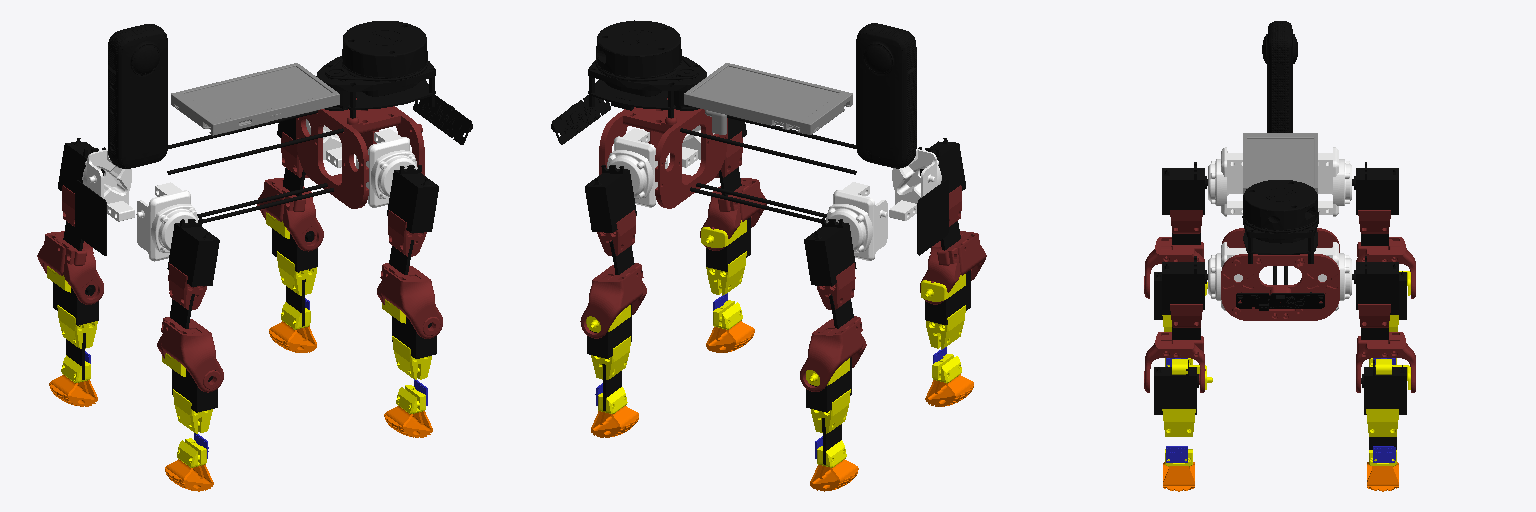
--- What the picture shows (computed from the rendered views, not written in the file) ---
3 views of the same robot in one strip: view 1: azimuth 30°, elevation 25°; view 2: azimuth 150°, elevation 25°; view 3: azimuth 270°, elevation 25° (orthographic).
Model spot with 49 links and 48 joints (12 revolute, 36 fixed), rooted at base_link, posed all joints at 0.
Links seen in each view (by area): view 1: insta_360, rpi_lidar, m5paper, front_bracket, front_right_upper_leg, back_right_upper_leg, back_left_upper_leg, back_right_hip, front_left_upper_leg, back_right_upper_servo, front_right_upper_servo, front_right_hip (+18 smaller); view 2: insta_360, rpi_lidar, m5paper, front_bracket, front_left_upper_leg, back_left_upper_leg, back_left_hip, back_right_upper_leg, front_left_upper_servo, back_left_upper_servo, front_right_upper_leg, front_left_hip (+18 smaller); view 3: front_bracket, rpi_lidar, m5paper, insta_360, front_right_upper_leg, front_left_upper_leg, back_right_upper_leg, back_left_upper_leg, front_left_upper_servo, front_right_upper_servo, back_left_upper_servo, back_right_upper_servo (+11 smaller).
Link boxes in pixels (left/top/right/bottom): insta_360: left=108, top=24, right=167, bottom=168; rpi_lidar: left=316, top=21, right=435, bottom=118; m5paper: left=171, top=63, right=339, bottom=135; front_bracket: left=296, top=98, right=424, bottom=208; front_right_upper_leg: left=377, top=210, right=442, bottom=338; back_right_upper_leg: left=157, top=263, right=223, bottom=392; back_left_upper_leg: left=37, top=185, right=103, bottom=304; back_right_hip: left=136, top=182, right=197, bottom=261; front_left_upper_leg: left=257, top=132, right=323, bottom=251; back_right_upper_servo: left=167, top=218, right=219, bottom=286; front_right_upper_servo: left=387, top=165, right=438, bottom=232; front_right_hip: left=356, top=129, right=417, bottom=207; insta_360: left=856, top=23, right=916, bottom=168; rpi_lidar: left=588, top=20, right=706, bottom=117; m5paper: left=684, top=63, right=852, bottom=134; front_bracket: left=599, top=98, right=727, bottom=208; front_left_upper_leg: left=580, top=210, right=646, bottom=338; back_left_upper_leg: left=800, top=263, right=866, bottom=391; back_left_hip: left=826, top=182, right=887, bottom=260; back_right_upper_leg: left=920, top=185, right=986, bottom=304; front_left_upper_servo: left=585, top=165, right=636, bottom=232; back_left_upper_servo: left=804, top=218, right=856, bottom=286; front_right_upper_leg: left=700, top=131, right=766, bottom=250; front_left_hip: left=607, top=128, right=667, bottom=207; front_bracket: left=1221, top=228, right=1339, bottom=320; rpi_lidar: left=1242, top=180, right=1318, bottom=263; m5paper: left=1243, top=133, right=1317, bottom=194; insta_360: left=1262, top=21, right=1297, bottom=132; front_right_upper_leg: left=1144, top=304, right=1205, bottom=392; front_left_upper_leg: left=1356, top=304, right=1415, bottom=392; back_right_upper_leg: left=1144, top=210, right=1204, bottom=298; back_left_upper_leg: left=1356, top=210, right=1415, bottom=298; front_left_upper_servo: left=1352, top=256, right=1398, bottom=309; front_right_upper_servo: left=1162, top=256, right=1207, bottom=309; back_left_upper_servo: left=1352, top=162, right=1398, bottom=214; back_right_upper_servo: left=1162, top=162, right=1207, bottom=214.
Size in the robot's own frame: 0.342 by 0.2525 by 0.3754 metres.
41 mesh visuals loaded from 30 distinct referenced files (24 binary STL); not drawn: 7 (reference not matched to a file when rendering).

The robot description file, URDF, robot "spot":
<?xml version="1.0" encoding="utf-8"?>
<!-- =================================================================================== -->
<!-- |    This document was autogenerated by xacro from spot.urdf.xacro                | -->
<!-- |    EDITING THIS FILE BY HAND IS NOT RECOMMENDED                                 | -->
<!-- =================================================================================== -->
<robot name="spot">
  <material name="maroon">
    <color rgba="0.5 0.2 0.2 1"/>
  </material>
  <material name="lblue">
    <color rgba="0.01 0.01 0.08 0.7"/>
  </material>
  <material name="orange">
    <color rgba="1.0 0.5 0.0 1"/>
  </material>
  <material name="black">
    <color rgba="0.1 0.1 0.1 1"/>
  </material>
  <material name="gray">
    <color rgba="0.6 0.6 0.6 1"/>
  </material>
  <material name="white">
    <color rgba="1.0 1.0 1.0 1"/>
  </material>
  <material name="yellow">
    <color rgba="1.0 1.0 0.0 1"/>
  </material>
  <material name="cgray">
    <color rgba="0.6 0.6 0.6 0.5"/>
  </material>
  <material name="blue">
    <color rgba="0.2 0.2 0.8 1"/>
  </material>
  <material name="green">
    <color rgba="0.2 0.8 0.2 1"/>
  </material>
  <!-- Left Leg: prefix is front or rear -->
  <!--   <xacro:macro name="LeftLeg" params="prefix reflect">
    <link name="${prefix}_Left_Leg">
        <visual>
            <geometry>
                <box size="${leglen} 0.1 0.2"/>
            </geometry>
            <origin xyz="0 0 -${leglen/2}" rpy="0 ${pi/2} 0"/>
            <material name="white"/>
        </visual>
        <collision>
            <geometry>
                <box size="${leglen} 0.1 0.2"/>
            </geometry>
            <origin xyz="0 0 -${leglen/2}" rpy="0 ${pi/2} 0"/>
        </collision>
        <xacro:default_inertial mass="10"/>
    </link>

    <joint name="base_to_${prefix}_leg" type="fixed">
        <parent link="base_link"/>
        <child link="${prefix}_leg"/>
        <origin xyz="0 ${reflect*(width+.02)} 0.25" />
    </joint>
</xacro:macro> -->
  <!-- <xacro:include filename="$(find mini_ros)/urdf/accessories.urdf.xacro" /> -->
  <!-- Robot description -->
  <!-- STATIC Links -->
  <link name="base_link"/>
  <link name="base_inertia">
    <visual>
      <origin rpy="0 0 1.57079632679" xyz="-0.16 0.035 -0.045"/>
      <geometry>
        <mesh filename="package://mini_ros/stl/OpenQuadruped/MAINBODY.stl" scale="1 1 1"/>
      </geometry>
      <material name="maroon"/>
    </visual>
    <collision>
      <origin rpy="0 0 1.57079632679" xyz="0 0 0"/>
      <geometry>
        <box size="0.05 0.2 0.08"/>
      </geometry>
    </collision>
    <inertial>
      <mass value="0.6"/>
      <origin rpy="0 0 0" xyz="0 0 0"/>
      <!-- Inertial Axes -->
      <inertia ixx="0.00232" ixy="0" ixz="0" iyx="0" iyy="0.000445" iyz="0" izx="0" izy="0" izz="0.002125"/>
    </inertial>
  </link>
  <gazebo reference="base_inertia">
  </gazebo>
  <!-- m to mm -->
  <link name="battery">
    <visual>
      <origin rpy="0 0 1.57079632679" xyz="-0.15 0.035 -0.022"/>
      <geometry>
        <mesh filename="package://mini_ros/stl/OpenQuadruped/Battery.stl" scale="1 1 1"/>
      </geometry>
      <material name="lblue"/>
    </visual>
    <inertial>
      <mass value="0.4"/>
      <origin rpy="0 0 0" xyz="0 0 0"/>
      <!-- Inertial Axes -->
      <inertia ixx="0.000723366666667" ixy="0" ixz="0" iyx="0" iyy="9.93333333333e-05" iyz="0" izx="0" izy="0" izz="0.000777633333333"/>
    </inertial>
  </link>
  <gazebo reference="battery">
  </gazebo>
  <!-- m to mm -->
  <link name="cfr_core">
    <visual>
      <origin rpy="0 0 1.57079632679" xyz="-0.15 0.035 -0.022"/>
      <geometry>
        <mesh filename="package://mini_ros/stl/OpenQuadruped/cfr_core.stl" scale="1 1 1"/>
      </geometry>
      <material name="black"/>
    </visual>
    <inertial>
      <mass value="0.05"/>
      <origin rpy="0 0 0" xyz="0 0 0"/>
      <!-- Inertial Axes -->
      <inertia ixx="9.04208333333e-05" ixy="0" ixz="0" iyx="0" iyy="1.24166666667e-05" iyz="0" izx="0" izy="0" izz="9.72041666667e-05"/>
    </inertial>
  </link>
  <gazebo reference="cfr_core">
    <material>Gazebo/Black</material>
  </gazebo>
  <!-- m to mm -->
  <link name="m5paper">
    <visual>
      <origin rpy="0 0 1.57079632679" xyz="-0.15 0.035 -0.022"/>
      <geometry>
        <mesh filename="package://mini_ros/stl/OpenQuadruped/m5paper.stl" scale="1 1 1"/>
      </geometry>
      <material name="gray"/>
    </visual>
    <inertial>
      <mass value="0.05"/>
      <origin rpy="0 0 0" xyz="0 0 0"/>
      <!-- Inertial Axes -->
      <inertia ixx="9.04208333333e-05" ixy="0" ixz="0" iyx="0" iyy="1.24166666667e-05" iyz="0" izx="0" izy="0" izz="9.72041666667e-05"/>
    </inertial>
  </link>
  <gazebo reference="m5paper">
  </gazebo>
  <!-- m to mm -->
  <link name="rpi_lidar">
    <visual>
      <origin rpy="0 0 1.57079632679" xyz="-0.15 0.035 -0.022"/>
      <geometry>
        <mesh filename="package://mini_ros/stl/OpenQuadruped/lidar.stl" scale="1 1 1"/>
      </geometry>
      <material name="black"/>
    </visual>
    <collision>
      <origin rpy="0 0 1.57079632679" xyz="0.125 0 0.1"/>
      <geometry>
        <box size="0.08 0.08 0.05"/>
      </geometry>
    </collision>
    <inertial>
      <mass value="0.05"/>
      <origin rpy="0 0 0" xyz="0 0 0"/>
      <!-- Inertial Axes -->
      <inertia ixx="3.70833333333e-05" ixy="0" ixz="0" iyx="0" iyy="3.70833333333e-05" iyz="0" izx="0" izy="0" izz="5.33333333333e-05"/>
    </inertial>
  </link>
  <gazebo reference="rpi_lidar">
    <material>Gazebo/Black</material>
  </gazebo>
  <!-- m to mm -->
  <link name="rpi_5">
    <visual>
      <origin rpy="0 0 1.57079632679" xyz="-0.15 0.035 -0.022"/>
      <geometry>
        <mesh filename="package://mini_ros/stl/OpenQuadruped/RPI5.stl" scale="1 1 1"/>
      </geometry>
      <material name="green"/>
    </visual>
    <inertial>
      <mass value="0.05"/>
      <origin rpy="0 0 0" xyz="0 0 0"/>
      <!-- Inertial Axes -->
      <inertia ixx="9.04208333333e-05" ixy="0" ixz="0" iyx="0" iyy="1.24166666667e-05" iyz="0" izx="0" izy="0" izz="9.72041666667e-05"/>
    </inertial>
  </link>
  <gazebo reference="rpi_5">
  </gazebo>
  <!-- m to mm -->
  <link name="oak_d_lite">
    <visual>
      <origin rpy="0 0 1.57079632679" xyz="-0.15 0.035 -0.022"/>
      <geometry>
        <mesh filename="package://mini_ros/stl/OpenQuadruped/OAKD_LITE.stl" scale="1 1 1"/>
      </geometry>
      <material name="black"/>
    </visual>
    <inertial>
      <mass value="0.05"/>
      <origin rpy="0 0 0" xyz="0 0 0"/>
      <!-- Inertial Axes -->
      <inertia ixx="9.04208333333e-05" ixy="0" ixz="0" iyx="0" iyy="1.24166666667e-05" iyz="0" izx="0" izy="0" izz="9.72041666667e-05"/>
    </inertial>
  </link>
  <gazebo reference="oak_d_lite">
    <material>Gazebo/Black</material>
  </gazebo>
  <!-- m to mm -->
  <link name="insta_360">
    <visual>
      <origin rpy="0 0 1.57079632679" xyz="-0.15 0.035 -0.022"/>
      <geometry>
        <mesh filename="package://mini_ros/stl/OpenQuadruped/INSTA360.stl" scale="1 1 1"/>
      </geometry>
      <material name="black"/>
    </visual>
    <collision>
      <origin rpy="0 0 1.57079632679" xyz="-0.1 0 0.135"/>
      <geometry>
        <box size="0.03 0.05 0.1"/>
      </geometry>
    </collision>
    <inertial>
      <mass value="0.05"/>
      <origin rpy="0 0 0" xyz="0 0 0"/>
      <!-- Inertial Axes -->
      <inertia ixx="5.20833333333e-05" ixy="0" ixz="0" iyx="0" iyy="4.54166666667e-05" iyz="0" izx="0" izy="0" izz="1.41666666667e-05"/>
    </inertial>
  </link>
  <gazebo reference="insta_360">
    <material>Gazebo/Black</material>
  </gazebo>
  <!-- m to mm -->
  <link name="front">
    <visual>
      <origin rpy="0 0 1.57079632679" xyz="-0.16 0.035 -0.045"/>
      <geometry>
        <mesh filename="package://mini_ros/stl/OpenQuadruped/Front.stl" scale="1 1 1"/>
      </geometry>
      <material name="maroon"/>
    </visual>
    <collision>
      <origin rpy="0 0 1.57079632679" xyz="0.16 0 0.006"/>
      <geometry>
        <box size="0.114 0.045 0.085"/>
      </geometry>
    </collision>
    <inertial>
      <mass value="0.1"/>
      <origin rpy="0 0 0" xyz="0 0 0"/>
      <!-- Inertial Axes -->
      <inertia ixx="7.70833333333e-05" ixy="0" ixz="0" iyx="0" iyy="0.000168508333333" iyz="0" izx="0" izy="0" izz="0.000125175"/>
    </inertial>
  </link>
  <gazebo reference="front">
  </gazebo>
  <!-- m to mm -->
  <link name="back">
    <visual>
      <origin rpy="0 0 1.57079632679" xyz="-0.16 0.035 -0.045"/>
      <geometry>
        <mesh filename="package://mini_ros/stl/OpenQuadruped/m5fire_black.stl" scale="1 1 1"/>
      </geometry>
      <material name="black"/>
    </visual>
    <collision>
      <origin rpy="0 0 1.57079632679" xyz="-0.15 0 0.006"/>
      <geometry>
        <box size="0.06 0.005 0.06"/>
      </geometry>
    </collision>
    <inertial>
      <mass value="0.1"/>
      <origin rpy="0 0 0" xyz="0 0 0"/>
      <!-- Inertial Axes -->
      <inertia ixx="3.02083333333e-05" ixy="0" ixz="0" iyx="0" iyy="6e-05" iyz="0" izx="0" izy="0" izz="3.02083333333e-05"/>
    </inertial>
  </link>
  <gazebo reference="back">
    <material>Gazebo/Black</material>
  </gazebo>
  <!-- m to mm -->
  <link name="front_bracket">
    <visual>
      <origin rpy="0 0 1.57079632679" xyz="-0.16 0.035 -0.045"/>
      <geometry>
        <mesh filename="package://mini_ros/stl/OpenQuadruped/Front_Bracket.stl" scale="1 1 1"/>
      </geometry>
      <material name="maroon"/>
    </visual>
    <collision>
      <origin rpy="0 0 1.57079632679" xyz="0.1 0 0"/>
      <geometry>
        <box size="0.025 0.075 0.085"/>
      </geometry>
    </collision>
    <inertial>
      <mass value="0.1"/>
      <origin rpy="0 0 0" xyz="0 0 0"/>
      <!-- Inertial Axes -->
      <inertia ixx="0.000107083333333" ixy="0" ixz="0" iyx="0" iyy="6.54166666667e-05" iyz="0" izx="0" izy="0" izz="5.20833333333e-05"/>
    </inertial>
  </link>
  <gazebo reference="front_bracket">
  </gazebo>
  <!-- m to mm -->
  <link name="back_bracket">
    <visual>
      <origin rpy="0 0 1.57079632679" xyz="-0.16 0.035 -0.045"/>
      <geometry>
        <mesh filename="package://mini_ros/stl/OpenQuadruped/Back_Bracket.stl" scale="1 1 1"/>
      </geometry>
      <material name="maroon"/>
    </visual>
    <collision>
      <origin rpy="0 0 1.57079632679" xyz="-0.1 0 0"/>
      <geometry>
        <box size="0.1 0.075 0.085"/>
      </geometry>
    </collision>
    <inertial>
      <mass value="0.1"/>
      <origin rpy="0 0 0" xyz="0 0 0"/>
      <!-- Inertial Axes -->
      <inertia ixx="0.000107083333333" ixy="0" ixz="0" iyx="0" iyy="0.000143541666667" iyz="0" izx="0" izy="0" izz="0.000130208333333"/>
    </inertial>
  </link>
  <gazebo reference="back_bracket">
  </gazebo>
  <!-- m to mm -->
  <link name="front_left_hip">
    <visual>
      <origin rpy="0 0 1.57079632679" xyz="-0.258 -0.0044 -0.062"/>
      <geometry>
        <mesh filename="package://mini_ros/stl/OpenQuadruped/LEFT_HIP.stl" scale="1 1 1"/>
      </geometry>
      <material name="white"/>
    </visual>
    <collision>
      <origin rpy="0 0 1.57079632679" xyz="0.015 0.005 -0.01"/>
      <geometry>
        <box size="0.05 0.065 0.065"/>
      </geometry>
    </collision>
    <inertial>
      <mass value="0.2"/>
      <origin rpy="0 0 0" xyz="0 0.075 0"/>
      <!-- Inertial Axes -->
      <inertia ixx="0.000140833333333" ixy="0" ixz="0" iyx="0" iyy="0.000112083333333" iyz="0" izx="0" izy="0" izz="0.000112083333333"/>
    </inertial>
  </link>
  <gazebo reference="front_left_hip">
  </gazebo>
  <joint name="motor_front_left_hip" type="revolute">
    <axis xyz="1 0 0"/>
    <origin rpy="0 0 0" xyz="0.0995 0.0394 0.017"/>
    <parent link="front_bracket"/>
    <child link="front_left_hip"/>
    <limit effort="4.0" lower="-1.04" upper="1.04" velocity="4.0"/>
    <joint_properties damping="0.0" friction="0.0"/>
  </joint>
  <link name="front_left_upper_leg">
    <visual>
      <origin rpy="0 0 1.57079632679" xyz="-0.252 -0.06 -0.053"/>
      <geometry>
        <mesh filename="package://mini_ros/stl/OpenQuadruped/LEFT_UPPER_LEG.stl" scale="1 1 1"/>
      </geometry>
      <material name="maroon"/>
    </visual>
    <collision>
      <origin rpy="0 0 1.57079632679" xyz="0 0.01 -0.05"/>
      <geometry>
        <box size="0.035 0.035 0.11"/>
      </geometry>
    </collision>
    <inertial>
      <mass value="0.13"/>
      <origin rpy="0 0 0" xyz="-0.005 0.0175 -0.055"/>
      <!-- Inertial Axes -->
      <inertia ixx="0.000144354166667" ixy="0" ixz="0" iyx="0" iyy="0.000144354166667" iyz="0" izx="0" izy="0" izz="2.65416666667e-05"/>
    </inertial>
  </link>
  <gazebo reference="front_left_upper_leg">
  </gazebo>
  <joint name="motor_front_left_upper_leg" type="revolute">
    <axis xyz="0 1 0"/>
    <origin rpy="0 0 0" xyz="0.0015 0.045 -0.011"/>
    <parent link="front_left_hip"/>
    <child link="front_left_upper_leg"/>
    <limit effort="4.0" lower="-1.57079632679" upper="2.59" velocity="4.0"/>
    <joint_properties damping="0.0" friction="0.0"/>
  </joint>
  <link name="front_left_upper_servo">
    <visual>
      <origin rpy="0 0 1.57079632679" xyz="-0.252 -0.06 -0.053"/>
      <geometry>
        <mesh filename="package://mini_ros/stl/OpenQuadruped/LEFT_UPPER_SERVO.stl" scale="1 1 1"/>
      </geometry>
      <material name="black"/>
    </visual>
    <inertial>
      <mass value="0.005"/>
      <origin rpy="0 0 0" xyz="-0.005 -0.0175 -0.053"/>
      <!-- Inertial Axes -->
      <inertia ixx="3.52083333333e-06" ixy="0" ixz="0" iyx="0" iyy="2.80208333333e-06" iyz="0" izx="0" izy="0" izz="2.80208333333e-06"/>
    </inertial>
  </link>
  <gazebo reference="front_left_upper_servo">
    <material>Gazebo/Black</material>
  </gazebo>
  <joint name="front_left_leg_upper_servo" type="fixed">
    <origin rpy="0 0 0" xyz="0 0 0"/>
    <parent link="front_left_upper_leg"/>
    <child link="front_left_upper_servo"/>
  </joint>
  <link name="front_left_upper_CFP">
    <visual>
      <origin rpy="0 0 1.57079632679" xyz="-0.252 -0.06 -0.055"/>
      <geometry>
        <mesh filename="package://mini_ros/stl/OpenQuadruped/LEFT_UPPER_CFP.stl" scale="1 1 1"/>
      </geometry>
      <material name="black"/>
    </visual>
    <inertial>
      <mass value="0.005"/>
      <origin rpy="0 0 0" xyz="-0.005 -0.0175 -0.053"/>
      <!-- Inertial Axes -->
      <inertia ixx="3.52083333333e-06" ixy="0" ixz="0" iyx="0" iyy="2.80208333333e-06" iyz="0" izx="0" izy="0" izz="2.80208333333e-06"/>
    </inertial>
  </link>
  <gazebo reference="front_left_upper_CFP">
    <material>Gazebo/Black</material>
  </gazebo>
  <joint name="front_left_leg_upper_CFP" type="fixed">
    <origin rpy="0 0 0" xyz="0 0 0"/>
    <parent link="front_left_upper_leg"/>
    <child link="front_left_upper_CFP"/>
  </joint>
  <link name="front_left_lower_leg">
    <visual>
      <origin rpy="0 0 1.57079632679" xyz="-0.247 -0.068 0.0535"/>
      <geometry>
        <mesh filename="package://mini_ros/stl/OpenQuadruped/LEFT_LOWER_LEG.stl" scale="1 1 1"/>
      </geometry>
      <material name="yellow"/>
    </visual>
    <collision>
      <origin rpy="0 0 1.57079632679" xyz="0 0.01 -0.04"/>
      <geometry>
        <box size="0.035 0.035 0.11"/>
      </geometry>
    </collision>
    <inertial>
      <mass value="0.05"/>
      <origin rpy="0 0 0" xyz="-0.01 0 -0.06"/>
      <!-- Inertial Axes -->
      <inertia ixx="5.55208333333e-05" ixy="0" ixz="0" iyx="0" iyy="5.55208333333e-05" iyz="0" izx="0" izy="0" izz="1.02083333333e-05"/>
    </inertial>
  </link>
  <gazebo reference="front_left_lower_leg">
  </gazebo>
  <joint name="motor_front_left_lower_leg" type="revolute">
    <axis xyz="0 1 0"/>
    <origin rpy="0 0 0" xyz="-0.005 0.002 -0.1068"/>
    <parent link="front_left_upper_leg"/>
    <child link="front_left_lower_leg"/>
    <limit effort="4.0" lower="-2.9" upper="1.57079632679" velocity="4.0"/>
    <joint_properties damping="0.0" friction="0.0"/>
  </joint>
  <link name="front_left_lower_servo">
    <visual>
      <origin rpy="0 0 1.57079632679" xyz="-0.247 -0.068 0.0535"/>
      <geometry>
        <mesh filename="package://mini_ros/stl/OpenQuadruped/LEFT_LOWER_SERVO.stl" scale="1 1 1"/>
      </geometry>
      <material name="black"/>
    </visual>
    <inertial>
      <mass value="0.005"/>
      <origin rpy="0 0 0" xyz="-0.005 -0.0175 -0.053"/>
      <!-- Inertial Axes -->
      <inertia ixx="3.52083333333e-06" ixy="0" ixz="0" iyx="0" iyy="2.80208333333e-06" iyz="0" izx="0" izy="0" izz="2.80208333333e-06"/>
    </inertial>
  </link>
  <gazebo reference="front_left_lower_servo">
    <material>Gazebo/Black</material>
  </gazebo>
  <joint name="front_left_leg_lower_servo" type="fixed">
    <origin rpy="0 0 0" xyz="0 0 0"/>
    <parent link="front_left_lower_leg"/>
    <child link="front_left_lower_servo"/>
  </joint>
  <link name="front_left_lower_CFP">
    <visual>
      <origin rpy="0 0 1.57079632679" xyz="-0.247 -0.068 0.0535"/>
      <geometry>
        <mesh filename="package://mini_ros/stl/OpenQuadruped/LEFT_LOWER_CFP.stl" scale="1 1 1"/>
      </geometry>
      <material name="black"/>
    </visual>
    <inertial>
      <mass value="0.005"/>
      <origin rpy="0 0 0" xyz="-0.005 -0.0175 -0.053"/>
      <!-- Inertial Axes -->
      <inertia ixx="3.52083333333e-06" ixy="0" ixz="0" iyx="0" iyy="2.80208333333e-06" iyz="0" izx="0" izy="0" izz="2.80208333333e-06"/>
    </inertial>
  </link>
  <gazebo reference="front_left_lower_CFP">
    <material>Gazebo/Black</material>
  </gazebo>
  <joint name="front_left_leg_lower_CFP" type="fixed">
    <origin rpy="0 0 0" xyz="0 0 0"/>
    <parent link="front_left_lower_leg"/>
    <child link="front_left_lower_CFP"/>
  </joint>
  <link name="front_left_lower_IMU">
    <visual>
      <origin rpy="0 0 1.57079632679" xyz="-0.247 -0.068 0.0535"/>
      <geometry>
        <mesh filename="package://mini_ros/stl/OpenQuadruped/LEFT_FOOT_IMU.stl" scale="1 1 1"/>
      </geometry>
      <material name="blue"/>
    </visual>
    <inertial>
      <mass value="0.005"/>
      <origin rpy="0 0 0" xyz="-0.005 -0.0175 -0.053"/>
      <!-- Inertial Axes -->
      <inertia ixx="3.52083333333e-06" ixy="0" ixz="0" iyx="0" iyy="2.80208333333e-06" iyz="0" izx="0" izy="0" izz="2.80208333333e-06"/>
    </inertial>
  </link>
  <gazebo reference="front_left_lower_IMU">
  </gazebo>
  <joint name="front_left_leg_lower_IMU" type="fixed">
    <origin rpy="0 0 0" xyz="0 0 0"/>
    <parent link="front_left_lower_leg"/>
    <child link="front_left_lower_IMU"/>
  </joint>
  <link name="front_left_foot">
    <visual>
      <origin rpy="0 0 1.57079632679" xyz="-0.247 -0.068 0.1535"/>
      <geometry>
        <mesh filename="package://mini_ros/stl/OpenQuadruped/LEFT_FOOT.stl" scale="1 1 1"/>
      </geometry>
      <material name="orange"/>
    </visual>
    <collision>
      <origin rpy="0 0 1.57079632679" xyz="-0.247 -0.068 0.18"/>
      <geometry>
        <mesh filename="package://mini_ros/stl/OpenQuadruped/LEFT_FOOT.stl" scale="1 1 1"/>
      </geometry>
      <contact_coefficients mu="10.1"/>
    </collision>
    <inertial>
      <mass value="0.005"/>
      <origin rpy="0 0 0" xyz="0 0 0"/>
      <!-- Inertial Axes -->
      <inertia ixx="3.52083333333e-06" ixy="0" ixz="0" iyx="0" iyy="2.80208333333e-06" iyz="0" izx="0" izy="0" izz="2.80208333333e-06"/>
    </inertial>
  </link>
  <gazebo reference="front_left_foot">
    <kp>1000000.0</kp>
    <kd>1.0</kd>
    <mu1>0.8</mu1>
    <mu2>0.8</mu2>
    <maxVel>0.0</maxVel>
    <minDepth>0.001</minDepth>
    <material>Gazebo/Red</material>
  </gazebo>
  <joint name="front_left_leg_foot" type="fixed">
    <origin rpy="0 0 0" xyz="0 0 -0.1"/>
    <parent link="front_left_lower_leg"/>
    <child link="front_left_foot"/>
  </joint>
  <link name="back_left_hip">
    <visual>
      <origin rpy="0 0 1.57079632679" xyz="-0.258 -0.0044 -0.062"/>
      <geometry>
        <mesh filename="package://mini_ros/stl/OpenQuadruped/LEFT_HIP.stl" scale="1 1 1"/>
      </geometry>
      <material name="white"/>
    </visual>
    <collision>
      <origin rpy="0 0 1.57079632679" xyz="0.015 0.005 -0.01"/>
      <geometry>
        <box size="0.05 0.065 0.065"/>
      </geometry>
    </collision>
    <inertial>
      <mass value="0.2"/>
      <origin rpy="0 0 0" xyz="0 0.075 0"/>
      <!-- Inertial Axes -->
      <inertia ixx="0.000140833333333" ixy="0" ixz="0" iyx="0" iyy="0.000112083333333" iyz="0" izx="0" izy="0" izz="0.000112083333333"/>
    </inertial>
  </link>
  <gazebo reference="back_left_hip">
  </gazebo>
  <joint name="motor_back_left_hip" type="revolute">
    <axis xyz="1 0 0"/>
    <origin rpy="0 0 0" xyz="-0.1075 0.0394 0.017"/>
    <parent link="back_bracket"/>
    <child link="back_left_hip"/>
    <limit effort="4.0" lower="-1.04" upper="1.04" velocity="4.0"/>
    <joint_properties damping="0.0" friction="0.0"/>
  </joint>
  <link name="back_left_upper_leg">
    <visual>
      <origin rpy="0 0 1.57079632679" xyz="-0.252 -0.06 -0.053"/>
      <geometry>
        <mesh filename="package://mini_ros/stl/OpenQuadruped/LEFT_UPPER_LEG.stl" scale="1 1 1"/>
      </geometry>
      <material name="maroon"/>
    </visual>
    <collision>
      <origin rpy="0 0 1.57079632679" xyz="0 0.01 -0.05"/>
      <geometry>
        <box size="0.035 0.035 0.11"/>
      </geometry>
    </collision>
    <inertial>
      <mass value="0.13"/>
      <origin rpy="0 0 0" xyz="-0.005 0.0175 -0.055"/>
      <!-- Inertial Axes -->
      <inertia ixx="0.000144354166667" ixy="0" ixz="0" iyx="0" iyy="0.000144354166667" iyz="0" izx="0" izy="0" izz="2.65416666667e-05"/>
    </inertial>
  </link>
  <gazebo reference="back_left_upper_leg">
  </gazebo>
  <joint name="motor_back_left_upper_leg" type="revolute">
    <axis xyz="0 1 0"/>
    <origin rpy="0 0 0" xyz="0.0015 0.045 -0.011"/>
    <parent link="back_left_hip"/>
    <child link="back_left_upper_leg"/>
    <limit effort="4.0" lower="-1.57079632679" upper="2.59" velocity="4.0"/>
    <joint_properties damping="0.0" friction="0.0"/>
  </joint>
  <link name="back_left_upper_servo">
    <visual>
      <origin rpy="0 0 1.57079632679" xyz="-0.252 -0.06 -0.053"/>
      <geometry>
        <mesh filename="package://mini_ros/stl/OpenQuadruped/LEFT_UPPER_SERVO.stl" scale="1 1 1"/>
      </geometry>
      <material name="black"/>
    </visual>
    <inertial>
      <mass value="0.005"/>
      <origin rpy="0 0 0" xyz="-0.005 -0.0175 -0.053"/>
      <!-- Inertial Axes -->
      <inertia ixx="3.52083333333e-06" ixy="0" ixz="0" iyx="0" iyy="2.80208333333e-06" iyz="0" izx="0" izy="0" izz="2.80208333333e-06"/>
    </inertial>
  </link>
  <gazebo reference="back_left_upper_servo">
    <material>Gazebo/Black</material>
  </gazebo>
  <joint name="back_left_leg_upper_servo" type="fixed">
    <origin rpy="0 0 0" xyz="0 0 0"/>
    <parent link="back_left_upper_leg"/>
    <child link="back_left_upper_servo"/>
  </joint>
  <link name="back_left_upper_CFP">
    <visual>
      <origin rpy="0 0 1.57079632679" xyz="-0.252 -0.06 -0.055"/>
      <geometry>
        <mesh filename="package://mini_ros/stl/OpenQuadruped/LEFT_UPPER_CFP.stl" scale="1 1 1"/>
      </geometry>
      <material name="black"/>
    </visual>
    <inertial>
      <mass value="0.005"/>
      <origin rpy="0 0 0" xyz="-0.005 -0.0175 -0.053"/>
      <!-- Inertial Axes -->
      <inertia ixx="3.52083333333e-06" ixy="0" ixz="0" iyx="0" iyy="2.80208333333e-06" iyz="0" izx="0" izy="0" izz="2.80208333333e-06"/>
    </inertial>
  </link>
  <gazebo reference="back_left_upper_CFP">
    <material>Gazebo/Black</material>
  </gazebo>
  <joint name="back_left_leg_upper_CFP" type="fixed">
    <origin rpy="0 0 0" xyz="0 0 0"/>
    <parent link="back_left_upper_leg"/>
    <child link="back_left_upper_CFP"/>
  </joint>
  <link name="back_left_lower_leg">
    <visual>
      <origin rpy="0 0 1.57079632679" xyz="-0.247 -0.068 0.0535"/>
      <geometry>
        <mesh filename="package://mini_ros/stl/OpenQuadruped/LEFT_LOWER_LEG.stl" scale="1 1 1"/>
      </geometry>
      <material name="yellow"/>
    </visual>
    <collision>
      <origin rpy="0 0 1.57079632679" xyz="0 0.01 -0.04"/>
      <geometry>
        <box size="0.035 0.035 0.11"/>
      </geometry>
    </collision>
    <inertial>
      <mass value="0.05"/>
      <origin rpy="0 0 0" xyz="-0.01 0 -0.06"/>
      <!-- Inertial Axes -->
      <inertia ixx="5.55208333333e-05" ixy="0" ixz="0" iyx="0" iyy="5.55208333333e-05" iyz="0" izx="0" izy="0" izz="1.02083333333e-05"/>
    </inertial>
  </link>
  <gazebo reference="back_left_lower_leg">
  </gazebo>
  <joint name="motor_back_left_lower_leg" type="revolute">
    <axis xyz="0 1 0"/>
    <origin rpy="0 0 0" xyz="-0.005 0.002 -0.1068"/>
    <parent link="back_left_upper_leg"/>
    <child link="back_left_lower_leg"/>
    <limit effort="4.0" lower="-2.9" upper="1.57079632679" velocity="4.0"/>
    <joint_properties damping="0.0" friction="0.0"/>
  </joint>
  <link name="back_left_lower_servo">
    <visual>
      <origin rpy="0 0 1.57079632679" xyz="-0.247 -0.068 0.0535"/>
      <geometry>
        <mesh filename="package://mini_ros/stl/OpenQuadruped/LEFT_LOWER_SERVO.stl" scale="1 1 1"/>
      </geometry>
      <material name="black"/>
    </visual>
    <inertial>
      <mass value="0.005"/>
      <origin rpy="0 0 0" xyz="-0.005 -0.0175 -0.053"/>
      <!-- Inertial Axes -->
      <inertia ixx="3.52083333333e-06" ixy="0" ixz="0" iyx="0" iyy="2.80208333333e-06" iyz="0" izx="0" izy="0" izz="2.80208333333e-06"/>
    </inertial>
  </link>
  <gazebo reference="back_left_lower_servo">
    <material>Gazebo/Black</material>
  </gazebo>
  <joint name="back_left_leg_lower_servo" type="fixed">
    <origin rpy="0 0 0" xyz="0 0 0"/>
    <parent link="back_left_lower_leg"/>
    <child link="back_left_lower_servo"/>
  </joint>
  <link name="back_left_lower_CFP">
    <visual>
      <origin rpy="0 0 1.57079632679" xyz="-0.247 -0.068 0.0535"/>
      <geometry>
        <mesh filename="package://mini_ros/stl/OpenQuadruped/LEFT_LOWER_CFP.stl" scale="1 1 1"/>
      </geometry>
      <material name="black"/>
    </visual>
    <inertial>
      <mass value="0.005"/>
      <origin rpy="0 0 0" xyz="-0.005 -0.0175 -0.053"/>
      <!-- Inertial Axes -->
      <inertia ixx="3.52083333333e-06" ixy="0" ixz="0" iyx="0" iyy="2.80208333333e-06" iyz="0" izx="0" izy="0" izz="2.80208333333e-06"/>
    </inertial>
  </link>
  <gazebo reference="back_left_lower_CFP">
    <material>Gazebo/Black</material>
  </gazebo>
  <joint name="back_left_leg_lower_CFP" type="fixed">
    <origin rpy="0 0 0" xyz="0 0 0"/>
    <parent link="back_left_lower_leg"/>
    <child link="back_left_lower_CFP"/>
  </joint>
  <link name="back_left_lower_IMU">
    <visual>
      <origin rpy="0 0 1.57079632679" xyz="-0.247 -0.068 0.0535"/>
      <geometry>
        <mesh filename="package://mini_ros/stl/OpenQuadruped/LEFT_FOOT_IMU.stl" scale="1 1 1"/>
      </geometry>
      <material name="blue"/>
    </visual>
    <inertial>
      <mass value="0.005"/>
      <origin rpy="0 0 0" xyz="-0.005 -0.0175 -0.053"/>
      <!-- Inertial Axes -->
      <inertia ixx="3.52083333333e-06" ixy="0" ixz="0" iyx="0" iyy="2.80208333333e-06" iyz="0" izx="0" izy="0" izz="2.80208333333e-06"/>
    </inertial>
  </link>
  <gazebo reference="back_left_lower_IMU">
  </gazebo>
  <joint name="back_left_leg_lower_IMU" type="fixed">
    <origin rpy="0 0 0" xyz="0 0 0"/>
    <parent link="back_left_lower_leg"/>
    <child link="back_left_lower_IMU"/>
  </joint>
  <link name="back_left_foot">
    <visual>
      <origin rpy="0 0 1.57079632679" xyz="-0.247 -0.068 0.18"/>
      <geometry>
        <mesh filename="package://mini_ros/stl/OpenQuadruped/LEFT_FOOT.stl" scale="1 1 1"/>
      </geometry>
      <material name="orange"/>
    </visual>
    <collision>
      <origin rpy="0 0 1.57079632679" xyz="-0.247 -0.068 0.18"/>
      <geometry>
        <mesh filename="package://mini_ros/stl/OpenQuadruped/LEFT_FOOT.stl" scale="1 1 1"/>
      </geometry>
      <contact_coefficients mu="10.1"/>
    </collision>
    <inertial>
      <mass value="0.005"/>
      <origin rpy="0 0 0" xyz="0 0 0"/>
      <!-- Inertial Axes -->
      <inertia ixx="3.52083333333e-06" ixy="0" ixz="0" iyx="0" iyy="2.80208333333e-06" iyz="0" izx="0" izy="0" izz="2.80208333333e-06"/>
    </inertial>
  </link>
  <gazebo reference="back_left_foot">
    <kp>1000000.0</kp>
    <kd>1.0</kd>
    <mu1>0.8</mu1>
    <mu2>0.8</mu2>
    <maxVel>0.0</maxVel>
    <minDepth>0.001</minDepth>
    <material>Gazebo/Red</material>
  </gazebo>
  <joint name="back_left_leg_foot" type="fixed">
    <origin rpy="0 0 0" xyz="0 0 -0.1265"/>
    <parent link="back_left_lower_leg"/>
    <child link="back_left_foot"/>
  </joint>
  <link name="front_right_hip">
    <visual>
      <origin rpy="0 0 1.57079632679" xyz="-0.258 0.074 -0.062"/>
      <geometry>
        <mesh filename="package://mini_ros/stl/OpenQuadruped/RIGHT_HIP.stl" scale="1 1 1"/>
      </geometry>
      <material name="white"/>
    </visual>
    <collision>
      <origin rpy="0 0 1.57079632679" xyz="0.015 -0.005 -0.01"/>
      <geometry>
        <box size="0.05 0.065 0.065"/>
      </geometry>
    </collision>
    <inertial>
      <mass value="0.2"/>
      <origin rpy="0 0 0" xyz="0 -0.075 0"/>
      <!-- Inertial Axes -->
      <inertia ixx="0.000140833333333" ixy="0" ixz="0" iyx="0" iyy="0.000112083333333" iyz="0" izx="0" izy="0" izz="0.000112083333333"/>
    </inertial>
  </link>
  <gazebo reference="front_right_hip">
  </gazebo>
  <joint name="motor_front_right_hip" type="revolute">
    <axis xyz="1 0 0"/>
    <origin rpy="0 0 0" xyz="0.0995 -0.0394 0.017"/>
    <parent link="front_bracket"/>
    <child link="front_right_hip"/>
    <limit effort="4.0" lower="-1.04" upper="1.04" velocity="4.0"/>
    <joint_properties damping="0.0" friction="0.0"/>
  </joint>


  <link name="front_right_upper_leg">
    <visual>
      <origin rpy="0 0 1.57079632679" xyz="-0.252 0.13 -0.053"/>
      <geometry>
        <mesh filename="package://mini_ros/stl/OpenQuadruped/RIGHT_UPPER_LEG.stl" scale="1 1 1"/>
      </geometry>
      <material name="maroon"/>
    </visual>
    <collision>
      <origin rpy="0 0 1.57079632679" xyz="0 -0.01 -0.038"/>
      <geometry>
        <box size="0.035 0.035 0.11"/>
      </geometry>
    </collision>
    <inertial>
      <mass value="0.13"/>
      <origin rpy="0 0 0" xyz="-0.005 -0.017 -0.053"/>
      <!-- Inertial Axes -->
      <inertia ixx="0.000144354166667" ixy="0" ixz="0" iyx="0" iyy="0.000144354166667" iyz="0" izx="0" izy="0" izz="2.65416666667e-05"/>
    </inertial>
  </link>
  <gazebo reference="front_right_upper_leg">
  </gazebo>
  <joint name="motor_front_right_upper_leg" type="revolute">
    <axis xyz="0 1 0"/>
    <origin rpy="0 0 0" xyz="0.0015 -0.045 -0.011"/>
    <parent link="front_right_hip"/>
    <child link="front_right_upper_leg"/>
    <limit effort="4.0" lower="-1.57079632679" upper="2.59" velocity="4.0"/>
    <joint_properties damping="0.0" friction="0.0"/>
  </joint>


  <link name="front_right_upper_servo">
    <visual>
      <origin rpy="0 0 1.57079632679" xyz="-0.252 0.13 -0.053"/>
      <geometry>
        <mesh filename="package://mini_ros/stl/OpenQuadruped/RIGHT_UPPER_SERVO.stl" scale="1 1 1"/>
      </geometry>
      <material name="black"/>
    </visual>
    <inertial>
      <mass value="0.005"/>
      <origin rpy="0 0 0" xyz="-0.005 -0.0175 -0.053"/>
      <!-- Inertial Axes -->
      <inertia ixx="3.52083333333e-06" ixy="0" ixz="0" iyx="0" iyy="2.80208333333e-06" iyz="0" izx="0" izy="0" izz="2.80208333333e-06"/>
    </inertial>
  </link>
  <gazebo reference="front_right_upper_servo">
    <material>Gazebo/Black</material>
  </gazebo>
  <joint name="front_right_leg_upper_servo" type="fixed">
    <origin rpy="0 0 0" xyz="0 0 0"/>
    <parent link="front_right_upper_leg"/>
    <child link="front_right_upper_servo"/>
  </joint>


  <link name="front_right_upper_CFP">
    <visual>
      <origin rpy="0 0 1.57079632679" xyz="-0.252 0.13 -0.053"/>
      <geometry>
        <mesh filename="package://mini_ros/stl/OpenQuadruped/RIGHT_UPPER_CFP.stl" scale="1 1 1"/>
      </geometry>
      <material name="black"/>
    </visual>
    <inertial>
      <mass value="0.005"/>
      <origin rpy="0 0 0" xyz="-0.005 -0.0175 -0.053"/>
      <!-- Inertial Axes -->
      <inertia ixx="3.52083333333e-06" ixy="0" ixz="0" iyx="0" iyy="2.80208333333e-06" iyz="0" izx="0" izy="0" izz="2.80208333333e-06"/>
    </inertial>
  </link>
  <gazebo reference="front_right_upper_CFP">
    <material>Gazebo/Black</material>
  </gazebo>
  <joint name="front_right_leg_upper_CFP" type="fixed">
    <origin rpy="0 0 0" xyz="0 0 0"/>
    <parent link="front_right_upper_leg"/>
    <child link="front_right_upper_CFP"/>
  </joint>

  <link name="front_right_lower_leg">
    <visual>
      <origin rpy="0 0 1.57079632679" xyz="-0.247 0.138 0.0535"/>
      <geometry>
        <mesh filename="package://mini_ros/stl/OpenQuadruped/RIGHT_LOWER_LEG.stl" scale="1 1 1"/>
      </geometry>
      <material name="yellow"/>
    </visual>
    <collision>
      <origin rpy="0 0 1.57079632679" xyz="0 -0.01 -0.04"/>
      <geometry>
        <box size="0.035 0.035 0.11"/>
      </geometry>
    </collision>
    <inertial>
      <mass value="0.05"/>
      <origin rpy="0 0 0" xyz="-0.01 0 -0.06"/>
      <!-- Inertial Axes -->
      <inertia ixx="5.55208333333e-05" ixy="0" ixz="0" iyx="0" iyy="5.55208333333e-05" iyz="0" izx="0" izy="0" izz="1.02083333333e-05"/>
    </inertial>
  </link>
  <gazebo reference="front_right_lower_leg">
  </gazebo>
  <joint name="motor_front_right_lower_leg" type="revolute">
    <axis xyz="0 1 0"/>
    <origin rpy="0 0 0" xyz="-0.005 -0.002 -0.1068"/>
    <parent link="front_right_upper_leg"/>
    <child link="front_right_lower_leg"/>
    <limit effort="4.0" lower="-2.9" upper="1.57079632679" velocity="4.0"/>
    <joint_properties damping="0.0" friction="0.0"/>
  </joint>

  <link name="front_right_lower_servo">
    <visual>
      <origin rpy="0 0 1.57079632679" xyz="-0.247 0.1375 0.18"/>
      <geometry>
        <mesh filename="package://mini_ros/stl/OpenQuadruped/RIGHT_LOWER_SERVO.stl" scale="1 1 1"/>
      </geometry>
      <material name="black"/>
    </visual>
    <inertial>
      <mass value="0.005"/>
      <origin rpy="0 0 0" xyz="0 0 0"/>
      <!-- Inertial Axes -->
      <inertia ixx="3.52083333333e-06" ixy="0" ixz="0" iyx="0" iyy="2.80208333333e-06" iyz="0" izx="0" izy="0" izz="2.80208333333e-06"/>
    </inertial>
  </link>
  <gazebo reference="front_right_lower_servo">
    <material>Gazebo/Black</material>
  </gazebo>
  <joint name="front_right_leg_lower_servo" type="fixed">
    <origin rpy="0 0 0" xyz="0 0 -0.1265"/>
    <parent link="front_right_lower_leg"/>
    <child link="front_right_lower_servo"/>
  </joint>
  <link name="front_right_lower_CFP">
    <visual>
      <origin rpy="0 0 1.57079632679" xyz="-0.247 0.138 0.18"/>
      <geometry>
        <mesh filename="package://mini_ros/stl/OpenQuadruped/RIGHT_LOWER_CFP.stl" scale="1 1 1"/>
      </geometry>
      <material name="black"/>
    </visual>
    <inertial>
      <mass value="0.005"/>
      <origin rpy="0 0 0" xyz="0 0 0"/>
      <!-- Inertial Axes -->
      <inertia ixx="3.52083333333e-06" ixy="0" ixz="0" iyx="0" iyy="2.80208333333e-06" iyz="0" izx="0" izy="0" izz="2.80208333333e-06"/>
    </inertial>
  </link>
  <gazebo reference="front_right_lower_CFP">
    <material>Gazebo/Black</material>
  </gazebo>
  <joint name="front_right_leg_lower_CFP" type="fixed">
    <origin rpy="0 0 0" xyz="0 0 -0.1265"/>
    <parent link="front_right_lower_leg"/>
    <child link="front_right_lower_CFP"/>
  </joint>

  
  <link name="front_right_lower_IMU">
    <visual>
      <origin rpy="0 0 1.57079632679" xyz="-0.247 0.138 0.18"/>
      <geometry>
        <mesh filename="package://mini_ros/stl/OpenQuadruped/RIGHT_FOOT_IMU.stl" scale="1 1 1"/>
      </geometry>
      <material name="blue"/>
    </visual>
    <inertial>
      <mass value="0.005"/>
      <origin rpy="0 0 0" xyz="0 0 0"/>
      <!-- Inertial Axes -->
      <inertia ixx="3.52083333333e-06" ixy="0" ixz="0" iyx="0" iyy="2.80208333333e-06" iyz="0" izx="0" izy="0" izz="2.80208333333e-06"/>
    </inertial>
  </link>
  <gazebo reference="front_right_lower_IMU">
  </gazebo>
  <joint name="front_right_leg_lower_IMU" type="fixed">
    <origin rpy="0 0 0" xyz="0 0 -0.1265"/>
    <parent link="front_right_lower_leg"/>
    <child link="front_right_lower_IMU"/>
  </joint>



  <link name="front_right_foot">
    <visual>
      <origin rpy="0 0 1.57079632679" xyz="-0.247 0.138 0.1535"/>
      <geometry>
        <mesh filename="package://mini_ros/stl/OpenQuadruped/RIGHT_FOOT.stl" scale="1 1 1"/>
      </geometry>
      <material name="orange"/>
    </visual>
    <collision>
      <origin rpy="0 0 1.57079632679" xyz="-0.247 0.138 0.18"/>
      <geometry>
        <mesh filename="package://mini_ros/stl/OpenQuadruped/RIGHT_FOOT.stl" scale="1 1 1"/>
      </geometry>
      <contact_coefficients mu="10.1"/>
    </collision>
    <inertial>
      <mass value="0.005"/>
      <origin rpy="0 0 0" xyz="0 0 0"/>
      <!-- Inertial Axes -->
      <inertia ixx="3.52083333333e-06" ixy="0" ixz="0" iyx="0" iyy="2.80208333333e-06" iyz="0" izx="0" izy="0" izz="2.80208333333e-06"/>
    </inertial>
  </link>
  <gazebo reference="front_right_foot">
    <kp>1000000.0</kp>
    <kd>1.0</kd>
    <mu1>0.8</mu1>
    <mu2>0.8</mu2>
    <maxVel>0.0</maxVel>
    <minDepth>0.001</minDepth>
    <material>Gazebo/Red</material>
  </gazebo>
  <joint name="front_right_leg_foot" type="fixed">
    <origin rpy="0 0 0" xyz="0 0 -0.1"/>
    <parent link="front_right_lower_leg"/>
    <child link="front_right_foot"/>
  </joint>
  <link name="back_right_hip">
    <visual>
      <origin rpy="0 0 1.57079632679" xyz="-0.258 0.074 -0.062"/>
      <geometry>
        <mesh filename="package://mini_ros/stl/OpenQuadruped/RIGHT_HIP.stl" scale="1 1 1"/>
      </geometry>
      <material name="white"/>
    </visual>
    <collision>
      <origin rpy="0 0 1.57079632679" xyz="0.015 -0.005 -0.01"/>
      <geometry>
        <box size="0.05 0.065 0.065"/>
      </geometry>
    </collision>
    <inertial>
      <mass value="0.2"/>
      <origin rpy="0 0 0" xyz="0 -0.075 0"/>
      <!-- Inertial Axes -->
      <inertia ixx="0.000140833333333" ixy="0" ixz="0" iyx="0" iyy="0.000112083333333" iyz="0" izx="0" izy="0" izz="0.000112083333333"/>
    </inertial>
  </link>
  <gazebo reference="back_right_hip">
  </gazebo>
  <joint name="motor_back_right_hip" type="revolute">
    <axis xyz="1 0 0"/>
    <origin rpy="0 0 0" xyz="-0.1075 -0.0394 0.017"/>
    <parent link="back_bracket"/>
    <child link="back_right_hip"/>
    <limit effort="4.0" lower="-1.04" upper="1.04" velocity="4.0"/>
    <joint_properties damping="0.0" friction="0.0"/>
  </joint>
  <link name="back_right_upper_leg">
    <visual>
      <origin rpy="0 0 1.57079632679" xyz="-0.252 0.13 -0.053"/>
      <geometry>
        <mesh filename="package://mini_ros/stl/OpenQuadruped/RIGHT_UPPER_LEG.stl" scale="1 1 1"/>
      </geometry>
      <material name="maroon"/>
    </visual>
    <collision>
      <origin rpy="0 0 1.57079632679" xyz="0 -0.01 -0.038"/>
      <geometry>
        <box size="0.045 0.035 0.11"/>
      </geometry>
    </collision>
    <inertial>
      <mass value="0.13"/>
      <origin rpy="0 0 0" xyz="-0.005 -0.017 -0.053"/>
      <!-- Inertial Axes -->
      <inertia ixx="0.000144354166667" ixy="0" ixz="0" iyx="0" iyy="0.000153020833333" iyz="0" izx="0" izy="0" izz="3.52083333333e-05"/>
    </inertial>
  </link>
  <gazebo reference="back_right_upper_leg">
  </gazebo>
  <joint name="motor_back_right_upper_leg" type="revolute">
    <axis xyz="0 1 0"/>
    <origin rpy="0 0 0" xyz="0.0015 -0.045 -0.011"/>
    <parent link="back_right_hip"/>
    <child link="back_right_upper_leg"/>
    <limit effort="4.0" lower="-1.57079632679" upper="2.59" velocity="4.0"/>
    <joint_properties damping="0.0" friction="0.0"/>
  </joint>
  <link name="back_right_upper_servo">
    <visual>
      <origin rpy="0 0 1.57079632679" xyz="-0.252 0.13 -0.053"/>
      <geometry>
        <mesh filename="package://mini_ros/stl/OpenQuadruped/RIGHT_UPPER_SERVO.stl" scale="1 1 1"/>
      </geometry>
      <material name="black"/>
    </visual>
    <inertial>
      <mass value="0.005"/>
      <origin rpy="0 0 0" xyz="-0.005 -0.0175 -0.053"/>
      <!-- Inertial Axes -->
      <inertia ixx="3.52083333333e-06" ixy="0" ixz="0" iyx="0" iyy="2.80208333333e-06" iyz="0" izx="0" izy="0" izz="2.80208333333e-06"/>
    </inertial>
  </link>
  <gazebo reference="back_right_upper_servo">
    <material>Gazebo/Black</material>
  </gazebo>
  <joint name="back_right_leg_upper_servo" type="fixed">
    <origin rpy="0 0 0" xyz="0 0 0"/>
    <parent link="back_right_upper_leg"/>
    <child link="back_right_upper_servo"/>
  </joint>
  <link name="back_right_upper_CFP">
    <visual>
      <origin rpy="0 0 1.57079632679" xyz="-0.252 0.13 -0.053"/>
      <geometry>
        <mesh filename="package://mini_ros/stl/OpenQuadruped/RIGHT_UPPER_CFP.stl" scale="1 1 1"/>
      </geometry>
      <material name="black"/>
    </visual>
    <inertial>
      <mass value="0.005"/>
      <origin rpy="0 0 0" xyz="-0.005 -0.0175 -0.053"/>
      <!-- Inertial Axes -->
      <inertia ixx="3.52083333333e-06" ixy="0" ixz="0" iyx="0" iyy="2.80208333333e-06" iyz="0" izx="0" izy="0" izz="2.80208333333e-06"/>
    </inertial>
  </link>
  <gazebo reference="back_right_upper_CFP">
    <material>Gazebo/Black</material>
  </gazebo>
  <joint name="back_right_leg_upper_CFP" type="fixed">
    <origin rpy="0 0 0" xyz="0 0 0"/>
    <parent link="back_right_upper_leg"/>
    <child link="back_right_upper_CFP"/>
  </joint>
  <link name="back_right_lower_leg">
    <visual>
      <origin rpy="0 0 1.57079632679" xyz="-0.247 0.138 0.0535"/>
      <geometry>
        <mesh filename="package://mini_ros/stl/OpenQuadruped/RIGHT_LOWER_LEG.stl" scale="1 1 1"/>
      </geometry>
      <material name="yellow"/>
    </visual>
    <collision>
      <origin rpy="0 0 1.57079632679" xyz="0 -0.01 -0.04"/>
      <geometry>
        <box size="0.035 0.035 0.11"/>
      </geometry>
    </collision>
    <inertial>
      <mass value="0.05"/>
      <origin rpy="0 0 0" xyz="-0.01 0 -0.06"/>
      <!-- Inertial Axes -->
      <inertia ixx="5.55208333333e-05" ixy="0" ixz="0" iyx="0" iyy="5.55208333333e-05" iyz="0" izx="0" izy="0" izz="1.02083333333e-05"/>
    </inertial>
  </link>
  <gazebo reference="back_right_lower_leg">
  </gazebo>
  <joint name="motor_back_right_lower_leg" type="revolute">
    <axis xyz="0 1 0"/>
    <origin rpy="0 0 0" xyz="-0.005 -0.002 -0.1068"/>
    <parent link="back_right_upper_leg"/>
    <child link="back_right_lower_leg"/>
    <limit effort="4.0" lower="-2.9" upper="1.57079632679" velocity="4.0"/>
    <joint_properties damping="0.0" friction="0.0"/>
  </joint>
  <link name="back_right_lower_servo">
    <visual>
      <origin rpy="0 0 1.57079632679" xyz="-0.247 0.1375 0.18"/>
      <geometry>
        <mesh filename="package://mini_ros/stl/OpenQuadruped/RIGHT_LOWER_SERVO.stl" scale="1 1 1"/>
      </geometry>
      <material name="black"/>
    </visual>
    <inertial>
      <mass value="0.005"/>
      <origin rpy="0 0 0" xyz="0 0 0"/>
      <!-- Inertial Axes -->
      <inertia ixx="3.52083333333e-06" ixy="0" ixz="0" iyx="0" iyy="2.80208333333e-06" iyz="0" izx="0" izy="0" izz="2.80208333333e-06"/>
    </inertial>
  </link>
  <gazebo reference="back_right_lower_servo">
    <material>Gazebo/Black</material>
  </gazebo>
  <joint name="back_right_leg_lower_servo" type="fixed">
    <origin rpy="0 0 0" xyz="0 0 -0.1265"/>
    <parent link="back_right_lower_leg"/>
    <child link="back_right_lower_servo"/>
  </joint>
  <link name="back_right_lower_CFP">
    <visual>
      <origin rpy="0 0 1.57079632679" xyz="-0.247 0.138 0.18"/>
      <geometry>
        <mesh filename="package://mini_ros/stl/OpenQuadruped/RIGHT_LOWER_CFP.stl" scale="1 1 1"/>
      </geometry>
      <material name="black"/>
    </visual>
    <inertial>
      <mass value="0.005"/>
      <origin rpy="0 0 0" xyz="0 0 0"/>
      <!-- Inertial Axes -->
      <inertia ixx="3.52083333333e-06" ixy="0" ixz="0" iyx="0" iyy="2.80208333333e-06" iyz="0" izx="0" izy="0" izz="2.80208333333e-06"/>
    </inertial>
  </link>
  <gazebo reference="back_right_lower_CFP">
    <material>Gazebo/Black</material>
  </gazebo>
  <joint name="back_right_leg_lower_CFP" type="fixed">
    <origin rpy="0 0 0" xyz="0 0 -0.1265"/>
    <parent link="back_right_lower_leg"/>
    <child link="back_right_lower_CFP"/>
  </joint>
  <link name="back_right_lower_IMU">
    <visual>
      <origin rpy="0 0 1.57079632679" xyz="-0.247 0.138 0.18"/>
      <geometry>
        <mesh filename="package://mini_ros/stl/OpenQuadruped/RIGHT_FOOT_IMU.stl" scale="1 1 1"/>
      </geometry>
      <material name="blue"/>
    </visual>
    <inertial>
      <mass value="0.005"/>
      <origin rpy="0 0 0" xyz="0 0 0"/>
      <!-- Inertial Axes -->
      <inertia ixx="3.52083333333e-06" ixy="0" ixz="0" iyx="0" iyy="2.80208333333e-06" iyz="0" izx="0" izy="0" izz="2.80208333333e-06"/>
    </inertial>
  </link>
  <gazebo reference="back_right_lower_IMU">
  </gazebo>
  <joint name="back_right_leg_lower_IMU" type="fixed">
    <origin rpy="0 0 0" xyz="0 0 -0.1265"/>
    <parent link="back_right_lower_leg"/>
    <child link="back_right_lower_IMU"/>
  </joint>
  <link name="back_right_foot">
    <visual>
      <origin rpy="0 0 1.57079632679" xyz="-0.247 0.138 0.1535"/>
      <geometry>
        <mesh filename="package://mini_ros/stl/OpenQuadruped/RIGHT_FOOT.stl" scale="1 1 1"/>
      </geometry>
      <material name="orange"/>
    </visual>
    <collision>
      <origin rpy="0 0 1.57079632679" xyz="-0.247 0.138 0.1535"/>
      <geometry>
        <mesh filename="package://mini_ros/stl/OpenQuadruped/RIGHT_FOOT.stl" scale="1 1 1"/>
      </geometry>
      <contact_coefficients mu="10.1"/>
    </collision>
    <inertial>
      <mass value="0.005"/>
      <origin rpy="0 0 0" xyz="0 0 0"/>
      <!-- Inertial Axes -->
      <inertia ixx="3.52083333333e-06" ixy="0" ixz="0" iyx="0" iyy="2.80208333333e-06" iyz="0" izx="0" izy="0" izz="2.80208333333e-06"/>
    </inertial>
  </link>
  <gazebo reference="back_right_foot">
    <kp>1000000.0</kp>
    <kd>1.0</kd>
    <mu1>0.8</mu1>
    <mu2>0.8</mu2>
    <maxVel>0.0</maxVel>
    <minDepth>0.001</minDepth>
    <material>Gazebo/Red</material>
  </gazebo>
  <joint name="back_right_leg_foot" type="fixed">
    <origin rpy="0 0 0" xyz="0 0 -0.1"/>
    <parent link="back_right_lower_leg"/>
    <child link="back_right_foot"/>
  </joint>`


  <joint name="base_base" type="fixed">
    <origin rpy="0 0 0" xyz="0 0 0"/>
    <parent link="base_link"/>
    <child link="base_inertia"/>
  </joint>
  <joint name="base_battery" type="fixed">
    <origin rpy="0 0 0" xyz="-0.01 0 -0.0225"/>
    <parent link="base_link"/>
    <child link="battery"/>
  </joint>
  <joint name="base_cft_core" type="fixed">
    <origin rpy="0 0 0" xyz="-0.01 0 -0.0225"/>
    <parent link="base_link"/>
    <child link="cfr_core"/>
  </joint>
  <joint name="base_m5paper" type="fixed">
    <origin rpy="0 0 0" xyz="-0.01 0 -0.0225"/>
    <parent link="base_link"/>
    <child link="m5paper"/>
  </joint>
  <joint name="base_rpi_lidar" type="fixed">
    <origin rpy="0 0 0" xyz="-0.01 0 -0.0225"/>
    <parent link="base_link"/>
    <child link="rpi_lidar"/>
  </joint>
  <joint name="base_rpi_5" type="fixed">
    <origin rpy="0 0 0" xyz="-0.01 0 -0.0225"/>
    <parent link="base_link"/>
    <child link="rpi_5"/>
  </joint>
  <joint name="base_oak_d_lite" type="fixed">
    <origin rpy="0 0 0" xyz="-0.01 0 -0.0225"/>
    <parent link="base_link"/>
    <child link="oak_d_lite"/>
  </joint>
  <joint name="base_insta_360" type="fixed">
    <origin rpy="0 0 0" xyz="-0.01 0 -0.0225"/>
    <parent link="base_link"/>
    <child link="insta_360"/>
  </joint>
  <joint name="base_front" type="fixed">
    <origin rpy="0 0 0" xyz="0 0 0"/>
    <parent link="base_link"/>
    <child link="front"/>
  </joint>
  <joint name="base_back" type="fixed">
    <origin rpy="0 0 0" xyz="0 0 0"/>
    <parent link="base_link"/>
    <child link="back"/>
  </joint>
  <joint name="base_front_bracket" type="fixed">
    <origin rpy="0 0 0" xyz="0 0 0"/>
    <parent link="base_link"/>
    <child link="front_bracket"/>
  </joint>
  <joint name="base_back_bracket" type="fixed">
    <origin rpy="0 0 0" xyz="0 0 0"/>
    <parent link="base_link"/>
    <child link="back_bracket"/>
  </joint>
  <transmission name="front_left_hip_joint_trans">
    <type>transmission_interface/SimpleTransmission</type>
    <joint name="motor_front_left_hip">
      <hardwareInterface>hardware_interface/EffortJointInterface</hardwareInterface>
    </joint>
    <actuator name="front_left_hip_joint_motor">
      <hardwareInterface>hardware_interface/EffortJointInterface</hardwareInterface>
      <mechanicalReduction>1</mechanicalReduction>
    </actuator>
  </transmission>
  <transmission name="front_left_upper_leg_joint_trans">
    <type>transmission_interface/SimpleTransmission</type>
    <joint name="motor_front_left_lower_leg">
      <hardwareInterface>hardware_interface/EffortJointInterface</hardwareInterface>
    </joint>
    <actuator name="front_left_upper_leg_joint_motor">
      <hardwareInterface>hardware_interface/EffortJointInterface</hardwareInterface>
      <mechanicalReduction>1</mechanicalReduction>
    </actuator>
  </transmission>
  <transmission name="front_left_lower_leg_joint_trans">
    <type>transmission_interface/SimpleTransmission</type>
    <joint name="motor_front_left_upper_leg">
      <hardwareInterface>hardware_interface/EffortJointInterface</hardwareInterface>
    </joint>
    <actuator name="front_left_lower_joint_motor">
      <hardwareInterface>hardware_interface/EffortJointInterface</hardwareInterface>
      <mechanicalReduction>1</mechanicalReduction>
    </actuator>
  </transmission>
  <transmission name="front_right_hip_joint_trans">
    <type>transmission_interface/SimpleTransmission</type>
    <joint name="motor_front_right_hip">
      <hardwareInterface>hardware_interface/EffortJointInterface</hardwareInterface>
    </joint>
    <actuator name="front_right_hip_joint_motor">
      <hardwareInterface>hardware_interface/EffortJointInterface</hardwareInterface>
      <mechanicalReduction>1</mechanicalReduction>
    </actuator>
  </transmission>
  <transmission name="front_right_upper_leg_joint_trans">
    <type>transmission_interface/SimpleTransmission</type>
    <joint name="motor_front_right_lower_leg">
      <hardwareInterface>hardware_interface/EffortJointInterface</hardwareInterface>
    </joint>
    <actuator name="front_right_upper_leg_joint_motor">
      <hardwareInterface>hardware_interface/EffortJointInterface</hardwareInterface>
      <mechanicalReduction>1</mechanicalReduction>
    </actuator>
  </transmission>
  <transmission name="front_right_lower_leg_joint_trans">
    <type>transmission_interface/SimpleTransmission</type>
    <joint name="motor_front_right_upper_leg">
      <hardwareInterface>hardware_interface/EffortJointInterface</hardwareInterface>
    </joint>
    <actuator name="front_right_lower_joint_motor">
      <hardwareInterface>hardware_interface/EffortJointInterface</hardwareInterface>
      <mechanicalReduction>1</mechanicalReduction>
    </actuator>
  </transmission>
  <transmission name="back_left_hip_joint_trans">
    <type>transmission_interface/SimpleTransmission</type>
    <joint name="motor_back_left_hip">
      <hardwareInterface>hardware_interface/EffortJointInterface</hardwareInterface>
    </joint>
    <actuator name="back_left_hip_joint_motor">
      <hardwareInterface>hardware_interface/EffortJointInterface</hardwareInterface>
      <mechanicalReduction>1</mechanicalReduction>
    </actuator>
  </transmission>
  <transmission name="back_left_upper_leg_joint_trans">
    <type>transmission_interface/SimpleTransmission</type>
    <joint name="motor_back_left_lower_leg">
      <hardwareInterface>hardware_interface/EffortJointInterface</hardwareInterface>
    </joint>
    <actuator name="back_left_upper_leg_joint_motor">
      <hardwareInterface>hardware_interface/EffortJointInterface</hardwareInterface>
      <mechanicalReduction>1</mechanicalReduction>
    </actuator>
  </transmission>
  <transmission name="back_left_lower_leg_joint_trans">
    <type>transmission_interface/SimpleTransmission</type>
    <joint name="motor_back_left_upper_leg">
      <hardwareInterface>hardware_interface/EffortJointInterface</hardwareInterface>
    </joint>
    <actuator name="back_left_lower_joint_motor">
      <hardwareInterface>hardware_interface/EffortJointInterface</hardwareInterface>
      <mechanicalReduction>1</mechanicalReduction>
    </actuator>
  </transmission>
  <transmission name="back_right_hip_joint_trans">
    <type>transmission_interface/SimpleTransmission</type>
    <joint name="motor_back_right_hip">
      <hardwareInterface>hardware_interface/EffortJointInterface</hardwareInterface>
    </joint>
    <actuator name="back_right_hip_joint_motor">
      <hardwareInterface>hardware_interface/EffortJointInterface</hardwareInterface>
      <mechanicalReduction>1</mechanicalReduction>
    </actuator>
  </transmission>
  <transmission name="back_right_upper_leg_joint_trans">
    <type>transmission_interface/SimpleTransmission</type>
    <joint name="motor_back_right_lower_leg">
      <hardwareInterface>hardware_interface/EffortJointInterface</hardwareInterface>
    </joint>
    <actuator name="back_right_upper_leg_joint_motor">
      <hardwareInterface>hardware_interface/EffortJointInterface</hardwareInterface>
      <mechanicalReduction>1</mechanicalReduction>
    </actuator>
  </transmission>
  <transmission name="back_right_lower_leg_joint_trans">
    <type>transmission_interface/SimpleTransmission</type>
    <joint name="motor_back_right_upper_leg">
      <hardwareInterface>hardware_interface/EffortJointInterface</hardwareInterface>
    </joint>
    <actuator name="back_right_lower_joint_motor">
      <hardwareInterface>hardware_interface/EffortJointInterface</hardwareInterface>
      <mechanicalReduction>1</mechanicalReduction>
    </actuator>
  </transmission>
  <gazebo>
    <plugin filename="libgazebo_ros_control.so" name="gazebo_ros_control">
      <robotNamespace>/spot</robotNamespace>
    </plugin>
  </gazebo>
</robot>
